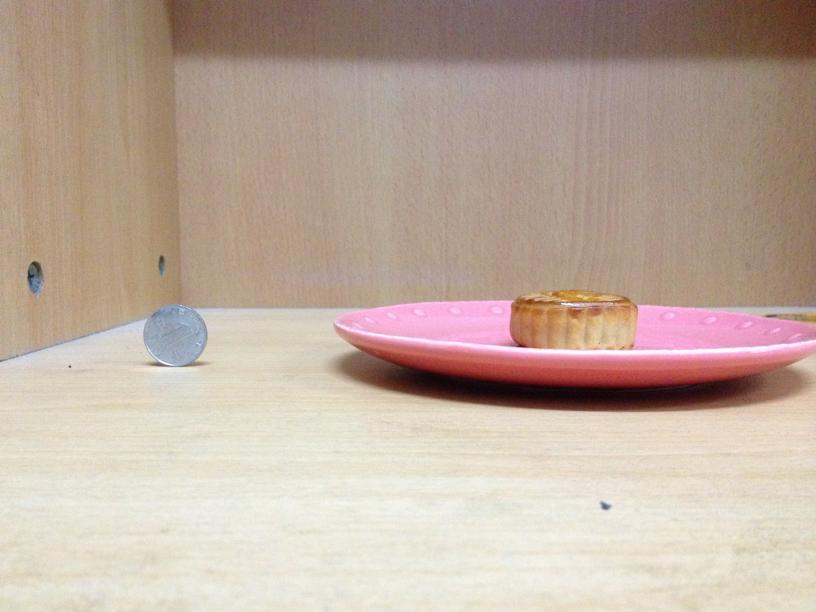coin: (144, 305, 208, 365)
mooncake: (511, 290, 637, 347)
